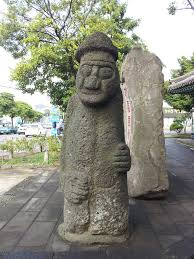Stone Statue: (49, 30, 142, 250)
